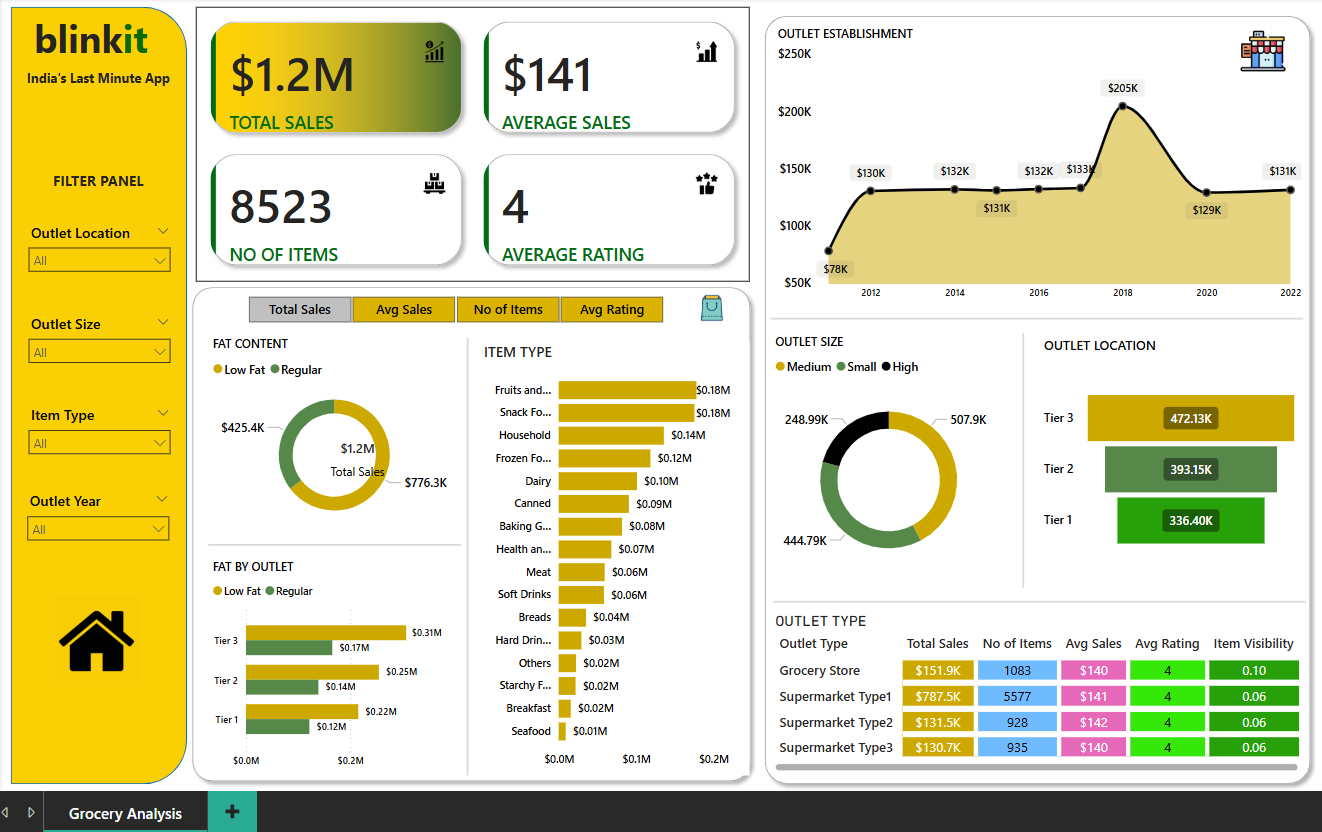

The page's visual inventory and layout, read from the dashboard file:
{"tool":"powerbi","page":{"name":"Grocery Analysis","canvas":[1500,900],"ordinal":0},"visuals":[{"type":"shape","box":[9.9,9.9,199.9,881.9],"z":0},{"type":"cardVisual","fields":{"Data":["BlinkIT Grocery Data.Total Sales","BlinkIT Grocery Data.Avg Sales","BlinkIT Grocery Data.No of Items","BlinkIT Grocery Data.Avg Rating"]},"box":[219.8,9.9,628.1,311.9],"z":1000},{"type":"textbox","box":[10.5,12,181.6,79.5],"z":2000},{"type":"textbox","box":[18,75,181.6,31.5],"z":3000},{"type":"shape","box":[207,319,650.8,578.5],"z":4000},{"type":"slicer","fields":{"Values":["Metrics.Metrics"]},"box":[253.8,331.8,520.3,41.1],"z":5000},{"type":"donutChart","title":"FAT CONTENT","fields":{"Y":["BlinkIT Grocery Data.Total Sales"],"Category":["BlinkIT Grocery Data.Item Fat Content"]},"box":[233.9,382.8,286.4,224],"z":6000},{"type":"cardVisual","fields":{"Data":["BlinkIT Grocery Data.Total Sales"]},"box":[349.7,483.3,106.6,64.5],"z":7000},{"type":"clusteredBarChart","title":"FAT BY OUTLET","fields":{"Y":["BlinkIT Grocery Data.Total Sales"],"Category":["BlinkIT Grocery Data.Outlet Location Type"],"Series":["BlinkIT Grocery Data.Item Fat Content"]},"box":[233.9,635.2,286.4,246.7],"z":8000},{"type":"shape","box":[233.9,606.8,286.4,26.9],"z":9000},{"type":"shape","box":[514.7,385.6,26.9,496.2],"z":10000},{"type":"barChart","title":"ITEM TYPE","fields":{"Y":["BlinkIT Grocery Data.Total Sales"],"Category":["BlinkIT Grocery Data.Item Type"]},"box":[541.6,389.9,306.2,492],"z":11000},{"type":"shape","box":[856.3,11.3,636.6,888.9],"z":12000},{"type":"lineChart","title":"OUTLET ESTABLISHMENT","fields":{"Category":["BlinkIT Grocery Data.Outlet Establishment Year"],"Y":["BlinkIT Grocery Data.Total Sales"]},"box":[874.8,31.2,604,320.4],"z":13000},{"type":"pieChart","title":"OUTLET SIZE","fields":{"Y":["Sum(BlinkIT Grocery Data.Sales)"],"Category":["BlinkIT Grocery Data.Outlet Size"]},"box":[871.9,380,268,286.4],"z":14000},{"type":"funnel","title":"OUTLET LOCATION","fields":{"Y":["Sum(BlinkIT Grocery Data.Sales)"],"Category":["BlinkIT Grocery Data.Outlet Location Type"]},"box":[1176.8,382.8,299.2,283.6],"z":15000},{"type":"pivotTable","title":"OUTLET TYPE","fields":{"Rows":["BlinkIT Grocery Data.Outlet Type"],"Values":["BlinkIT Grocery Data.Total Sales","BlinkIT Grocery Data.No of Items","BlinkIT Grocery Data.Avg Sales","BlinkIT Grocery Data.Avg Rating","Avg(BlinkIT Grocery Data.Item Visibility)"]},"box":[871.9,696.1,604,185.7],"z":16000},{"type":"shape","box":[871.9,347.4,604,32.6],"z":17000},{"type":"shape","box":[1149.8,380,17,289.2],"z":18000},{"type":"shape","box":[874.8,673.4,604,22.7],"z":19000},{"type":"slicer","fields":{"Values":["BlinkIT Grocery Data.Outlet Size"]},"box":[19.8,353,181.5,82.2],"z":19001},{"type":"slicer","fields":{"Values":["BlinkIT Grocery Data.Outlet Establishment Year"]},"box":[18.4,554.4,181.5,82.2],"z":19002},{"type":"slicer","fields":{"Values":["BlinkIT Grocery Data.Item Type"]},"box":[19.8,456.5,181.5,82.2],"z":19003},{"type":"slicer","fields":{"Values":["BlinkIT Grocery Data.Outlet Location Type"]},"box":[19.8,249.5,181.5,82.2],"z":19004},{"type":"image","box":[1382.3,29.8,96.4,61],"z":19006},{"type":"image","box":[762.8,327.5,85.1,48.2],"z":19007},{"type":"textbox","box":[48.2,191.4,121.9,45.4],"z":19008},{"type":"image","box":[39.7,673.4,138.9,106.3],"z":19009}]}

Visuals, with their boxes on the page's 1500x900 design canvas (x1, y1, x2, y2). These are canvas units, not pixel positions in the 1322x832 screenshot, which may show the page scaled, cropped or inside an application window:
shape: x1=10 y1=10 x2=210 y2=892
cardVisual - BlinkIT Grocery Data.Total Sales x BlinkIT Grocery Data.Avg Sales: x1=220 y1=10 x2=848 y2=322
textbox: x1=10 y1=12 x2=192 y2=92
textbox: x1=18 y1=75 x2=200 y2=106
shape: x1=207 y1=319 x2=858 y2=898
slicer - Metrics.Metrics: x1=254 y1=332 x2=774 y2=373
"FAT CONTENT" donutChart: x1=234 y1=383 x2=520 y2=607
cardVisual - BlinkIT Grocery Data.Total Sales: x1=350 y1=483 x2=456 y2=548
"FAT BY OUTLET" clusteredBarChart: x1=234 y1=635 x2=520 y2=882
shape: x1=234 y1=607 x2=520 y2=634
shape: x1=515 y1=386 x2=542 y2=882
"ITEM TYPE" barChart: x1=542 y1=390 x2=848 y2=882
shape: x1=856 y1=11 x2=1493 y2=900
"OUTLET ESTABLISHMENT" lineChart: x1=875 y1=31 x2=1479 y2=352
"OUTLET SIZE" pieChart: x1=872 y1=380 x2=1140 y2=666
"OUTLET LOCATION" funnel: x1=1177 y1=383 x2=1476 y2=666
"OUTLET TYPE" pivotTable: x1=872 y1=696 x2=1476 y2=882
shape: x1=872 y1=347 x2=1476 y2=380
shape: x1=1150 y1=380 x2=1167 y2=669
shape: x1=875 y1=673 x2=1479 y2=696
slicer - BlinkIT Grocery Data.Outlet Size: x1=20 y1=353 x2=201 y2=435
slicer - BlinkIT Grocery Data.Outlet Establishment Year: x1=18 y1=554 x2=200 y2=637
slicer - BlinkIT Grocery Data.Item Type: x1=20 y1=456 x2=201 y2=539
slicer - BlinkIT Grocery Data.Outlet Location Type: x1=20 y1=250 x2=201 y2=332
image: x1=1382 y1=30 x2=1479 y2=91
image: x1=763 y1=328 x2=848 y2=376
textbox: x1=48 y1=191 x2=170 y2=237
image: x1=40 y1=673 x2=179 y2=780
